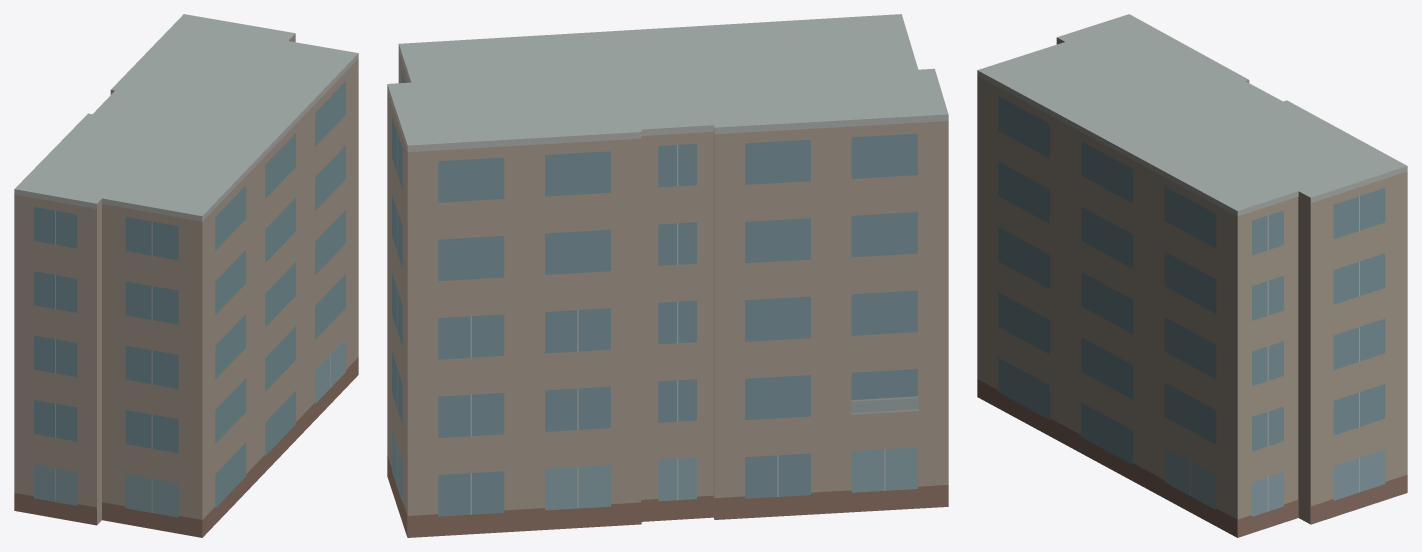
File: survey-upis-32664369.glb
3 renders of one model, left to right at view 1: azimuth 30°, elevation 25°; view 2: azimuth 150°, elevation 25°; view 3: azimuth 270°, elevation 25°, orthographic. The views are drawn at different scales.
Visible parts, largest first — view 1: survey-upis-32664369.tmp; view 2: survey-upis-32664369.tmp; view 3: survey-upis-32664369.tmp.
Boxes of the visible parts, x1,y1,x2,y2 form: survey-upis-32664369.tmp: [14, 14, 358, 537]; survey-upis-32664369.tmp: [387, 14, 948, 537]; survey-upis-32664369.tmp: [977, 14, 1407, 537].
Bounding box in the file's own units: 18.89 × 14.6 × 17.44.
